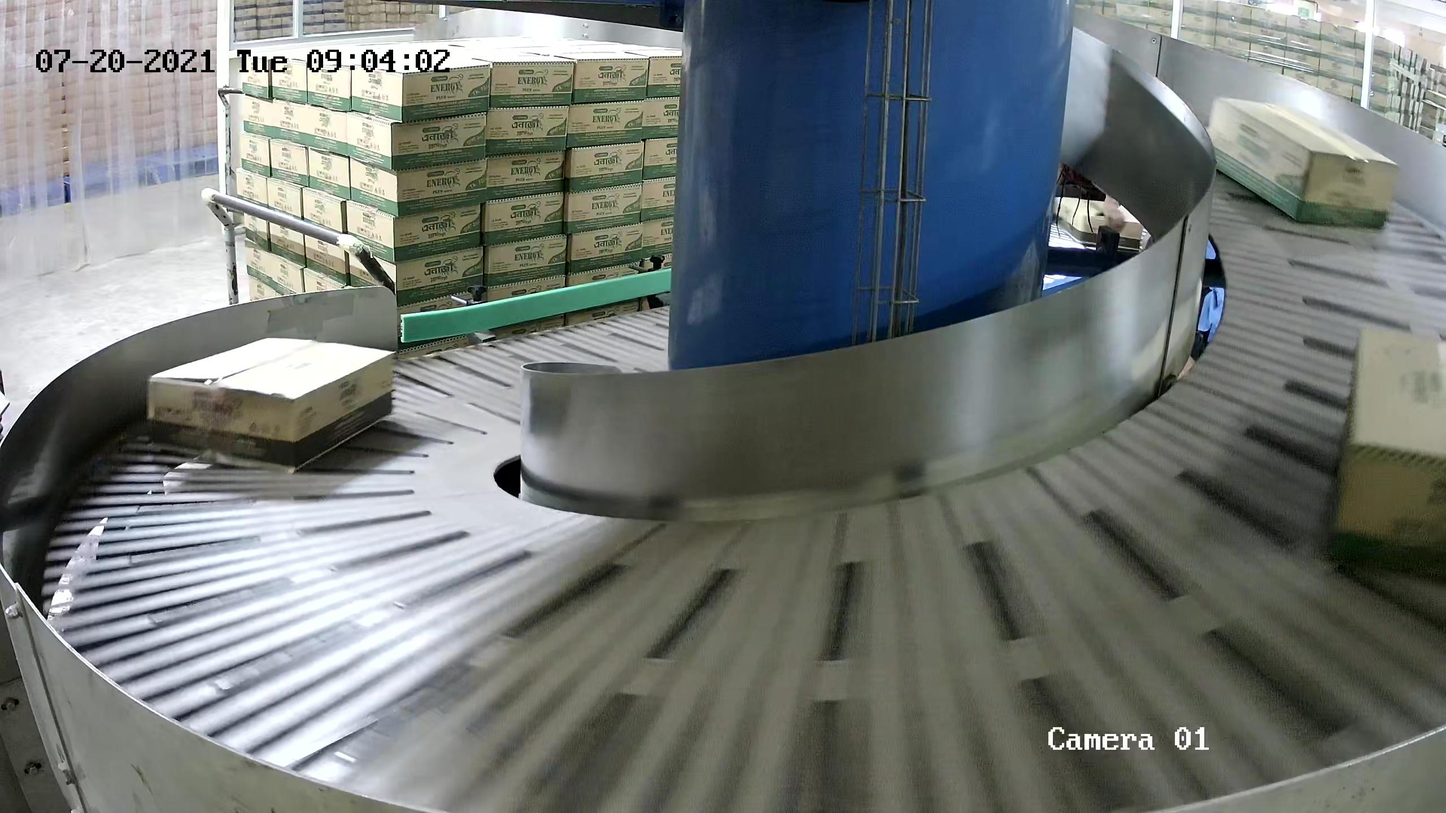Box: (140, 332, 399, 472), (1319, 323, 1446, 590), (1202, 96, 1405, 230)
